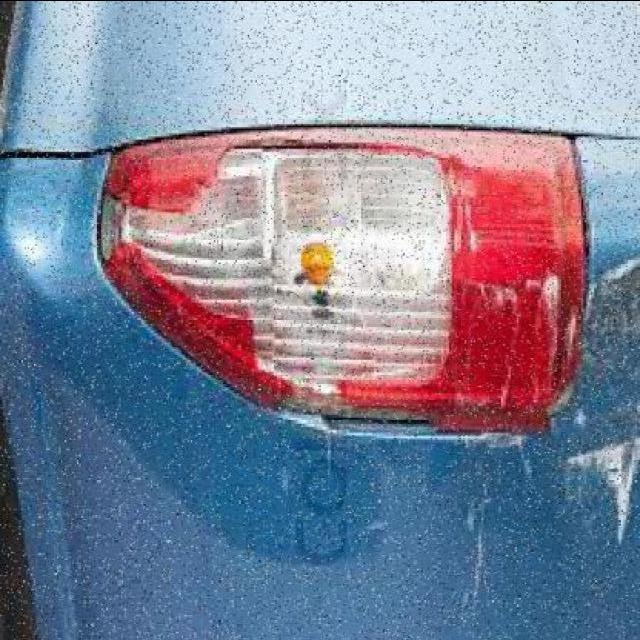Taillight-Damage: (85, 99, 628, 458)
